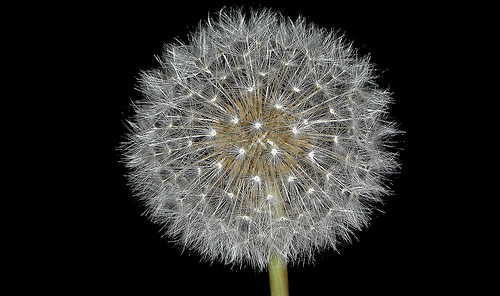dandelion: (113, 2, 411, 273)
